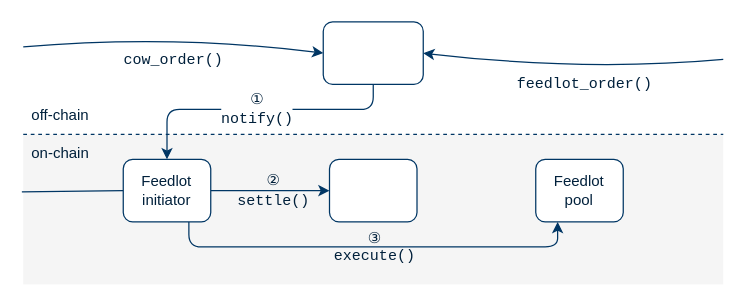
Image size: 748x306. Some labels were removed from this diagram. Each missing label, with the centre of its shape:
"COW contracts" belongs at [372,190].
"COW/Feedlot services" belongs at [372,52].
